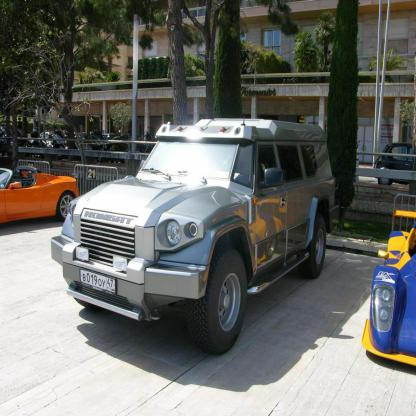Car: (360, 217, 416, 366), (4, 119, 150, 157), (0, 162, 78, 222), (372, 140, 416, 187)
